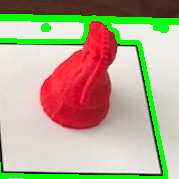Red Knight: (34, 18, 120, 137)
